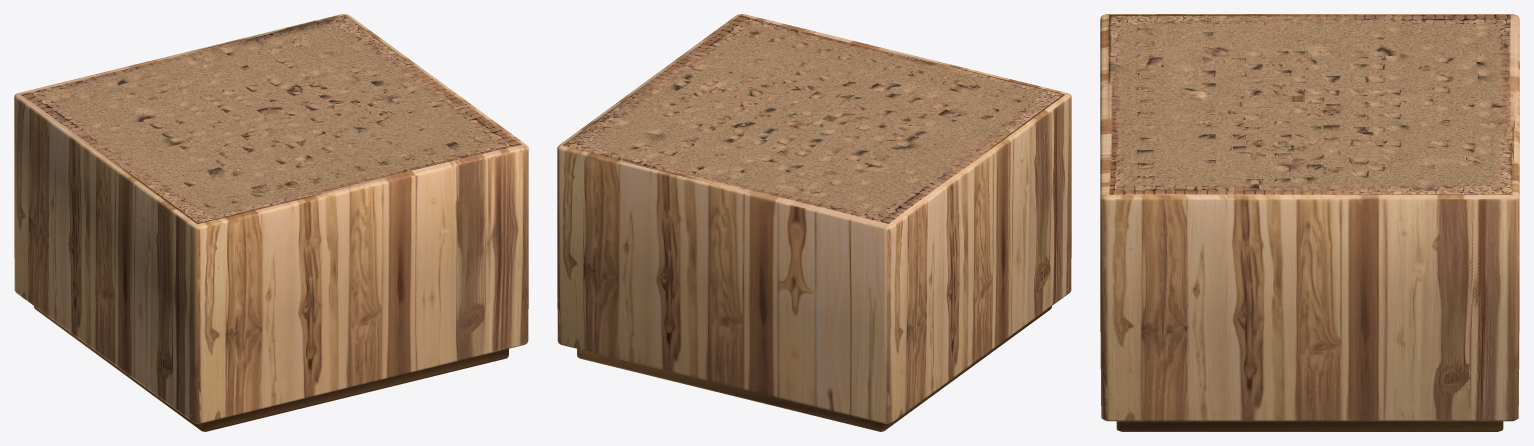
File: Block_coffeee_table_0428035612_texture.glb
3 views of the same model, side by side, from view 1: azimuth 30°, elevation 25°; view 2: azimuth 150°, elevation 25°; view 3: azimuth 270°, elevation 25° (orthographic). The views are drawn at different scales.
Parts seen in each view (by area): view 1: Mesh_0.001; view 2: Mesh_0.001; view 3: Mesh_0.001.
Part boxes in pixels (x1,y1,x2,y2): Mesh_0.001: (14,14,528,431); Mesh_0.001: (557,14,1071,431); Mesh_0.001: (1100,14,1519,431).
Size of the model in its own units: 0.7472 by 0.4572 by 0.7134.
Materials: 1 (1 with a texture image).
